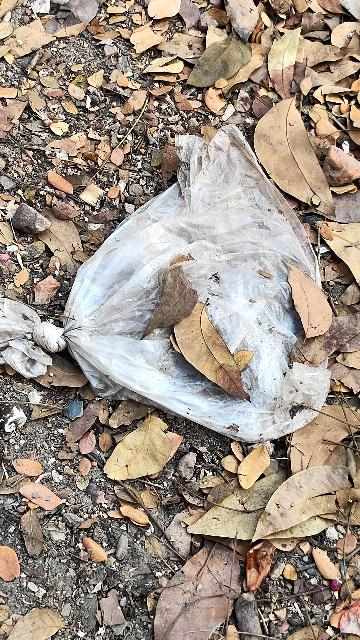polythene: (68, 174, 327, 433)
